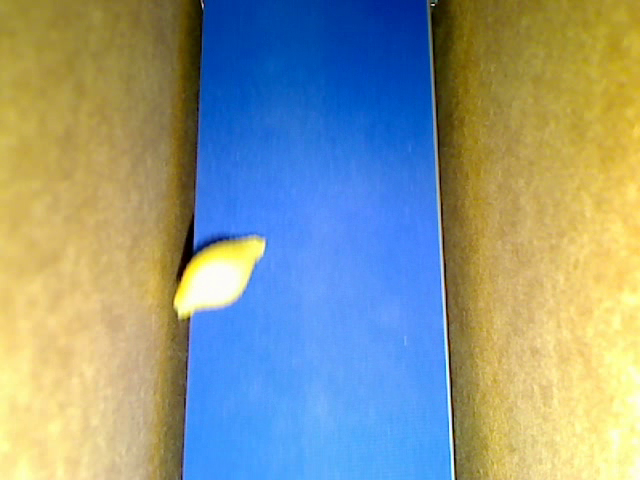shell: (173, 231, 267, 320)
